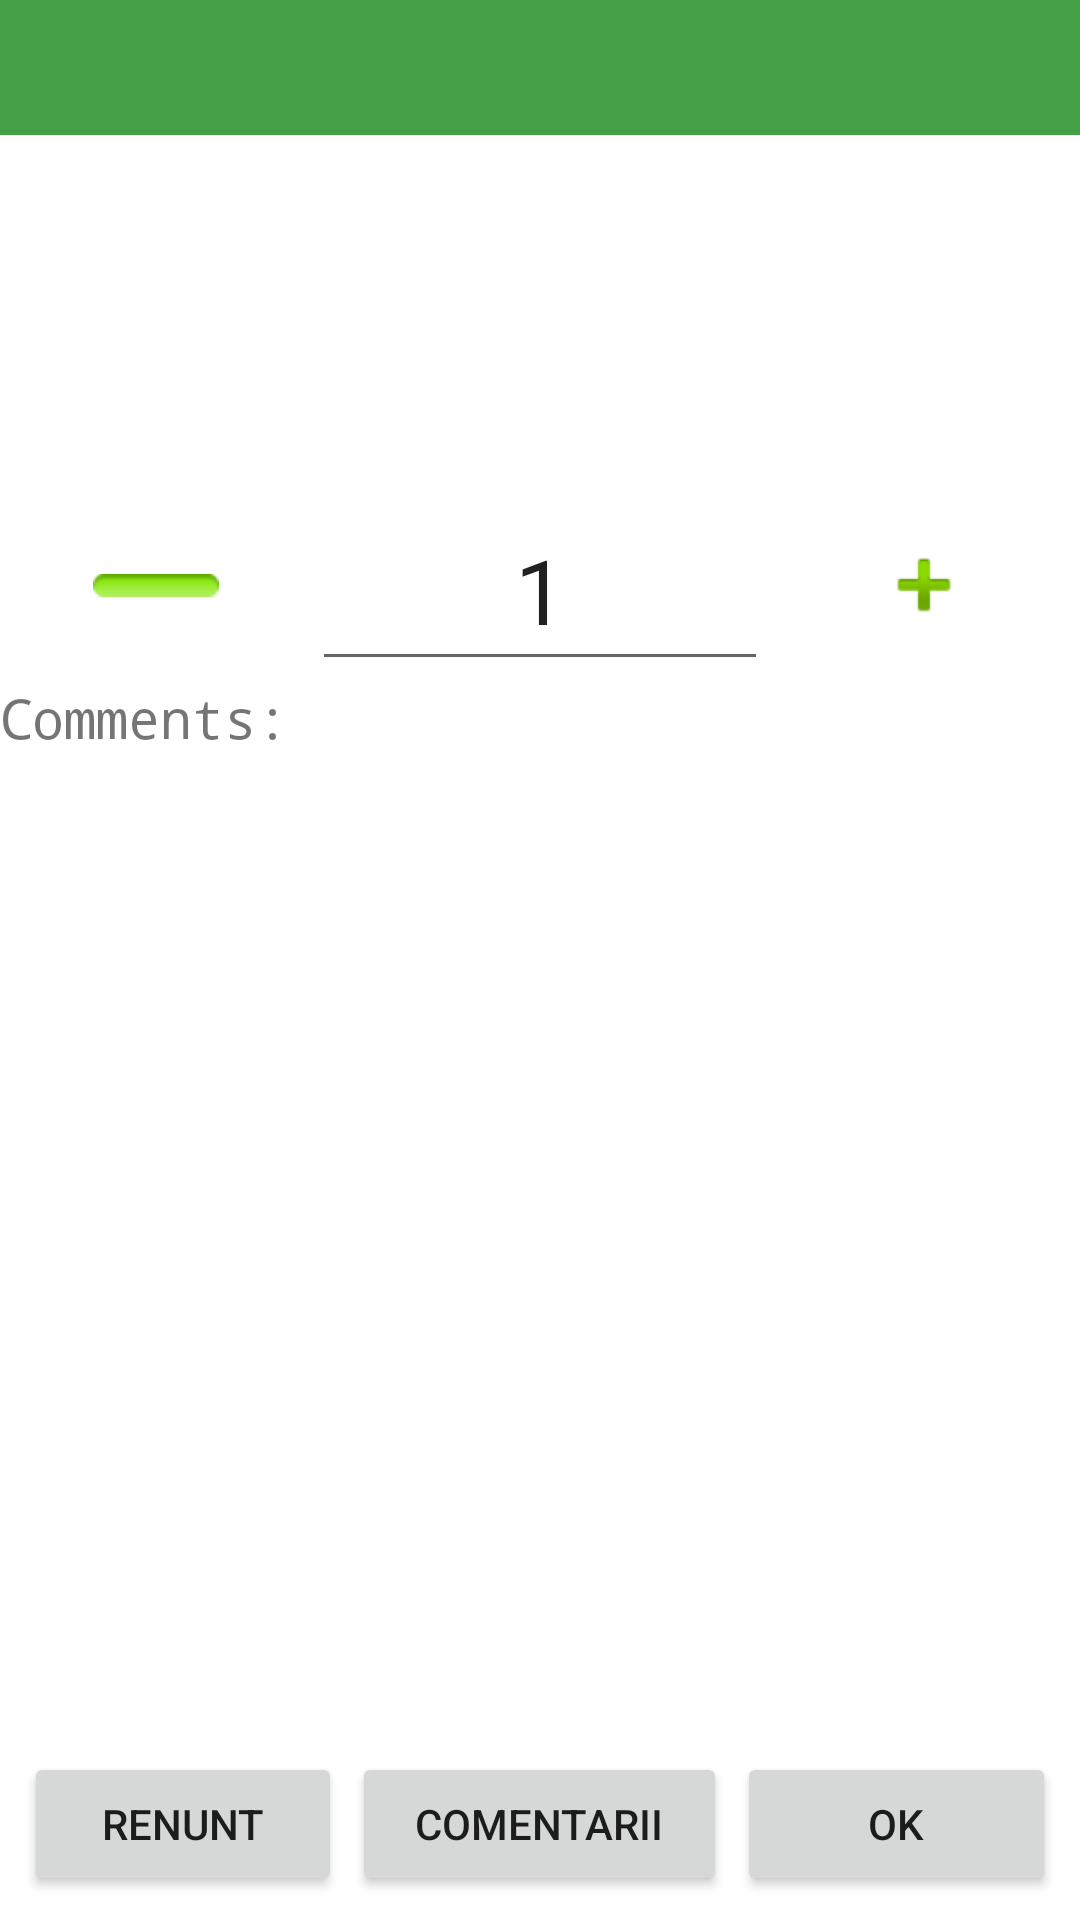

Where to tap for icons on this 1080*1920 app screen, as point (x, y):
add: point (924, 585)
